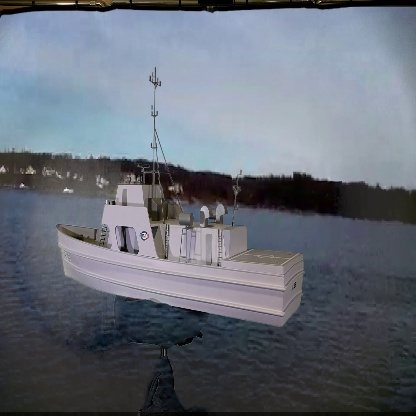YP689: (56, 66, 304, 330)
